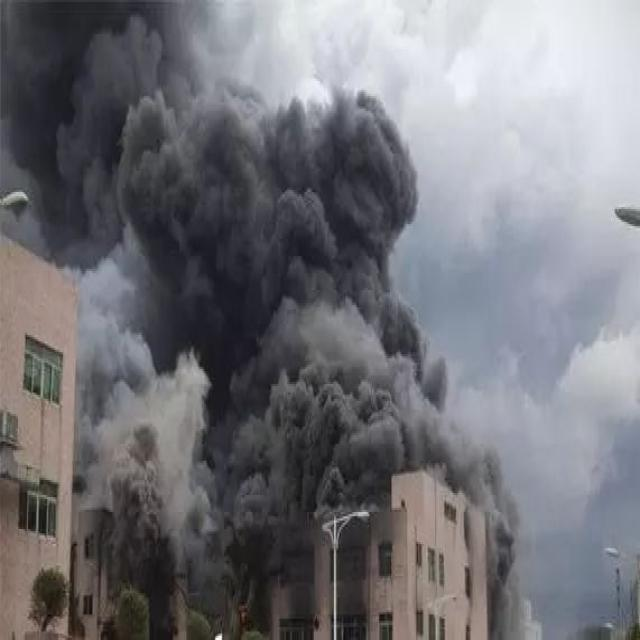Smoke: (1, 2, 543, 640)
